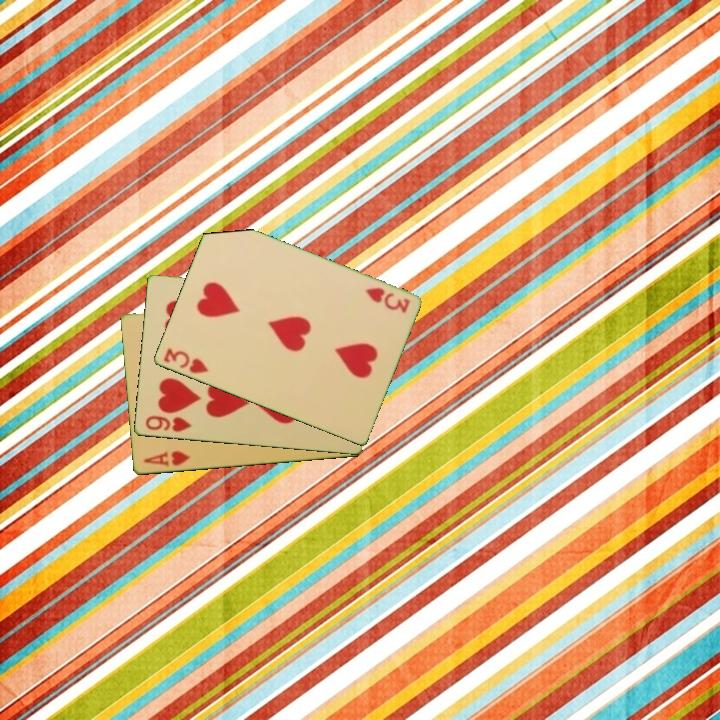3h: (160, 344, 211, 377), (361, 284, 412, 316)
9h: (142, 412, 194, 435)
Ah: (140, 448, 192, 470)
